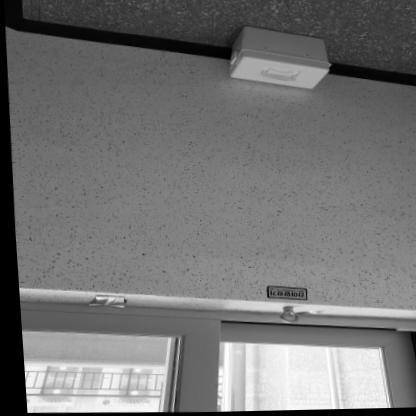DDL: (227, 24, 329, 91)
